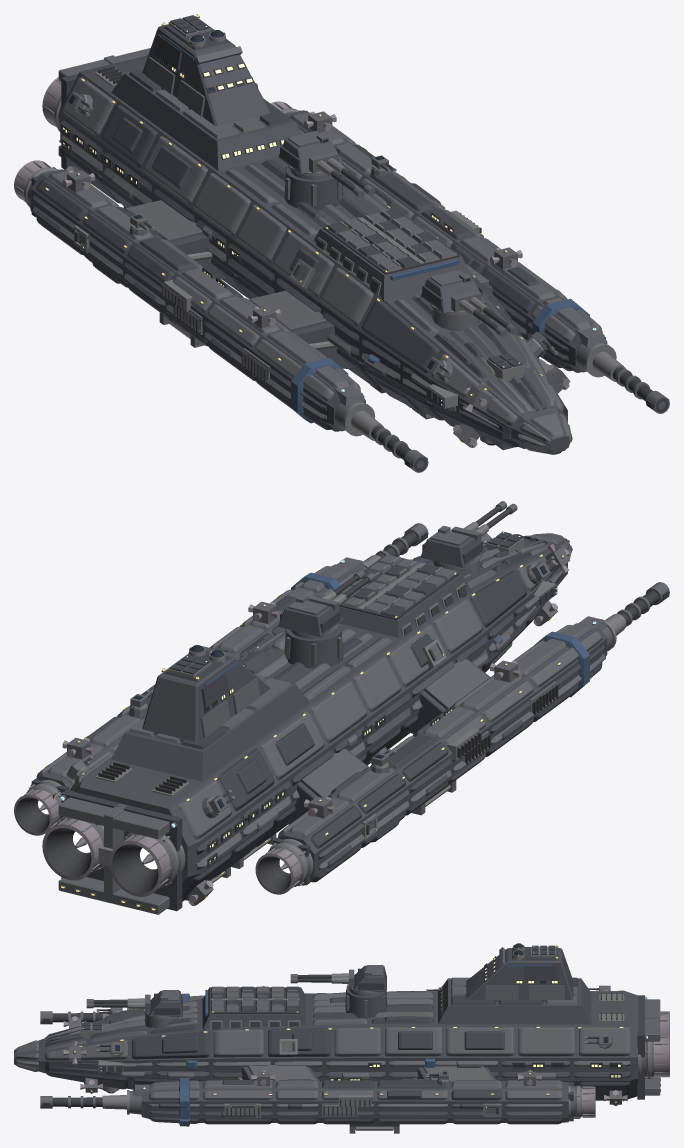
Rendered from assault_frigate.glb.
3 views of the same model, one above another, from view 1: azimuth 30°, elevation 25°; view 2: azimuth 150°, elevation 25°; view 3: azimuth 270°, elevation 25° (orthographic). The views are drawn at different scales.
Parts seen in each view (by area): view 1: assault_frigate; view 2: assault_frigate; view 3: assault_frigate.
Boxes of the visible parts, x1,y1,x2,y2 form: assault_frigate: (14,14,669,472); assault_frigate: (14,501,669,914); assault_frigate: (14,943,669,1133).
Bounding box in the file's own units: 17.9 × 12.7 × 47.3.
